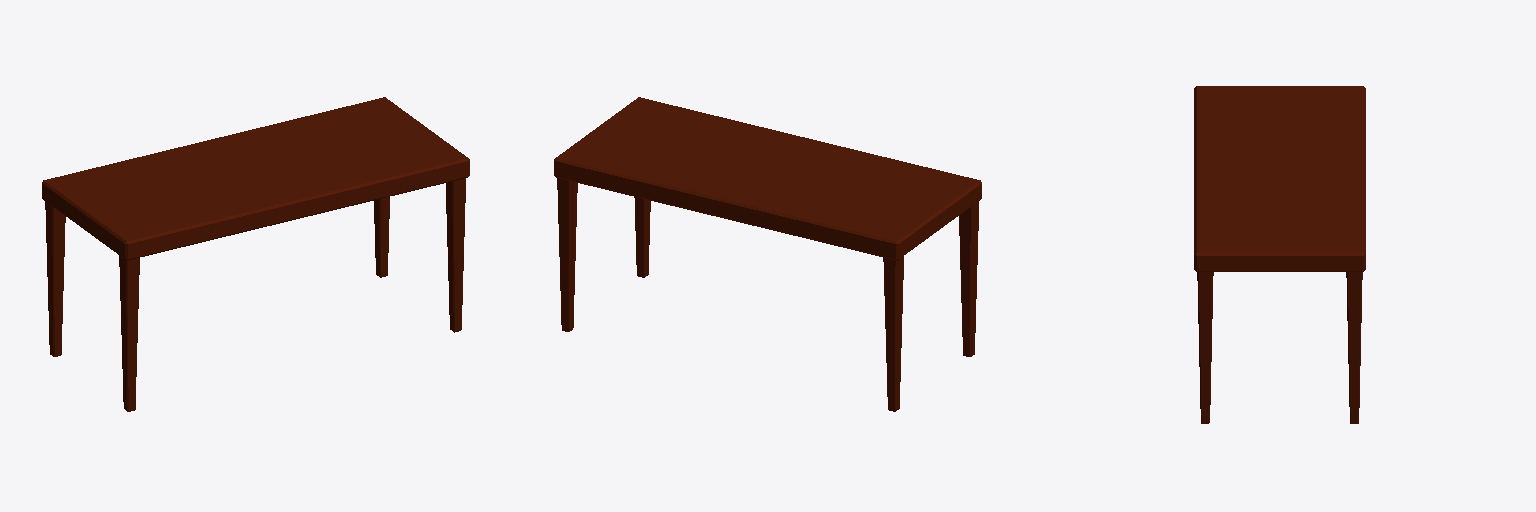
The model's file is Table2.obj.
3 views of the same model, side by side, from view 1: azimuth 30°, elevation 25°; view 2: azimuth 150°, elevation 25°; view 3: azimuth 270°, elevation 25° (orthographic).
Parts seen in each view (by area): view 1: Table_A_Cube.025; view 2: Table_A_Cube.025; view 3: Table_A_Cube.025.
Boxes of the visible parts, <box> form: Table_A_Cube.025: <box>42,97,469,411</box>; Table_A_Cube.025: <box>554,97,981,411</box>; Table_A_Cube.025: <box>1194,86,1365,423</box>.
Bounding box in the file's own units: 8.29 × 3.98 × 3.56.